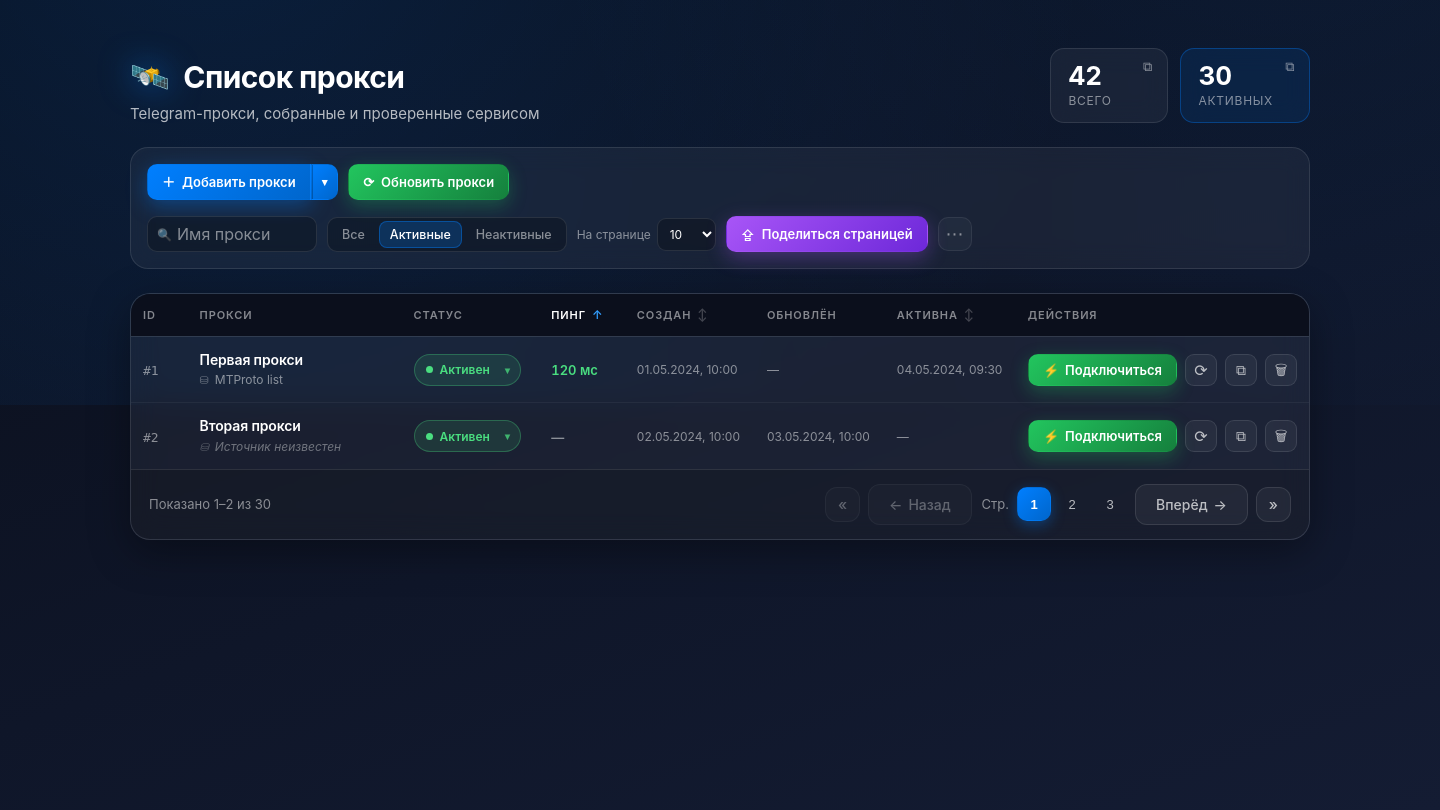
Test: добавление прокси › исход «нечего добавлять» показывается спокойным info-тостом и список не трогает
Check: the text "Первая прокси" is shown, box [200,351,303,368]
Click the button titled "Добавить прокси" at (229, 182), box [147,164,311,200]
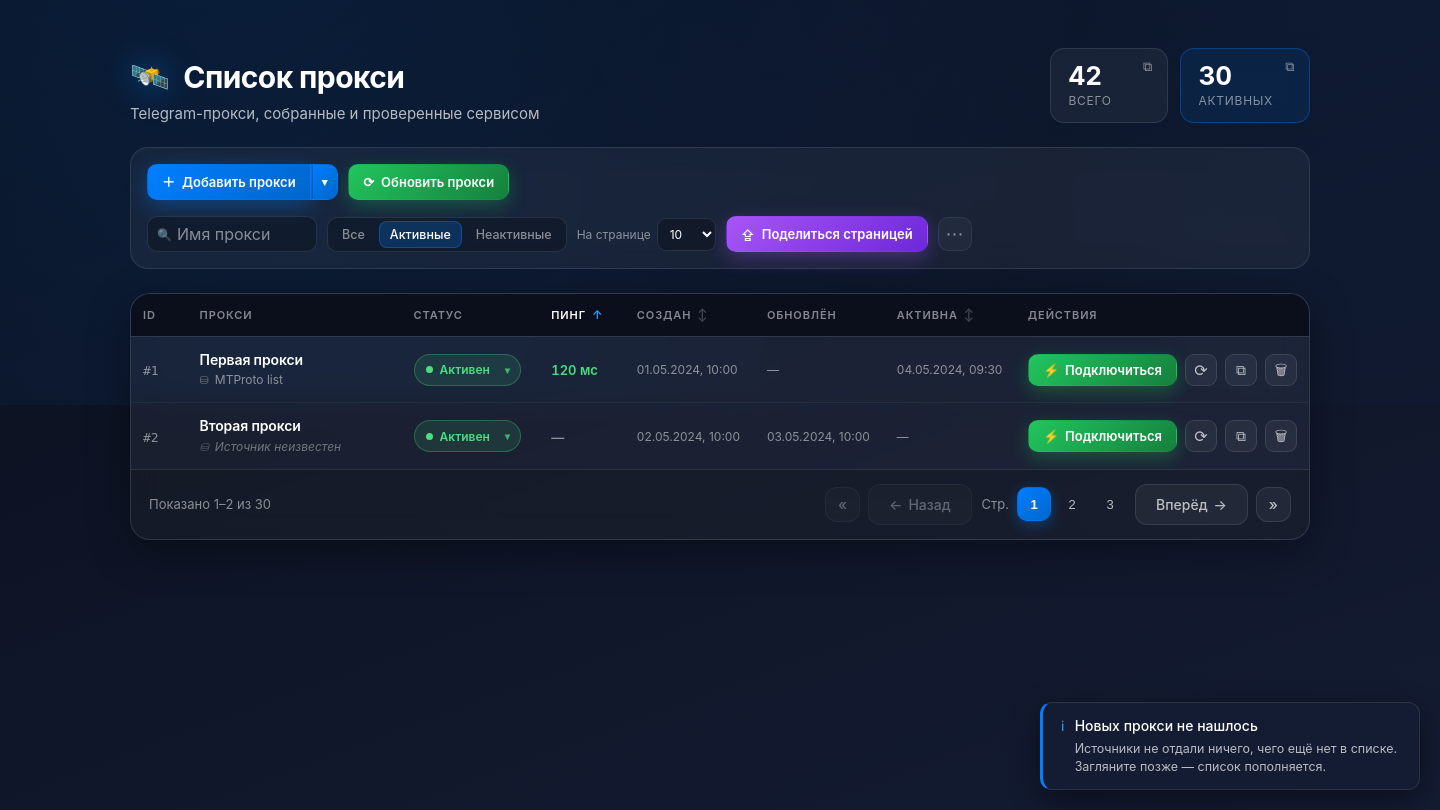
Check: the text "Новых прокси не нашлось" is shown, box [1075,717,1258,734]
